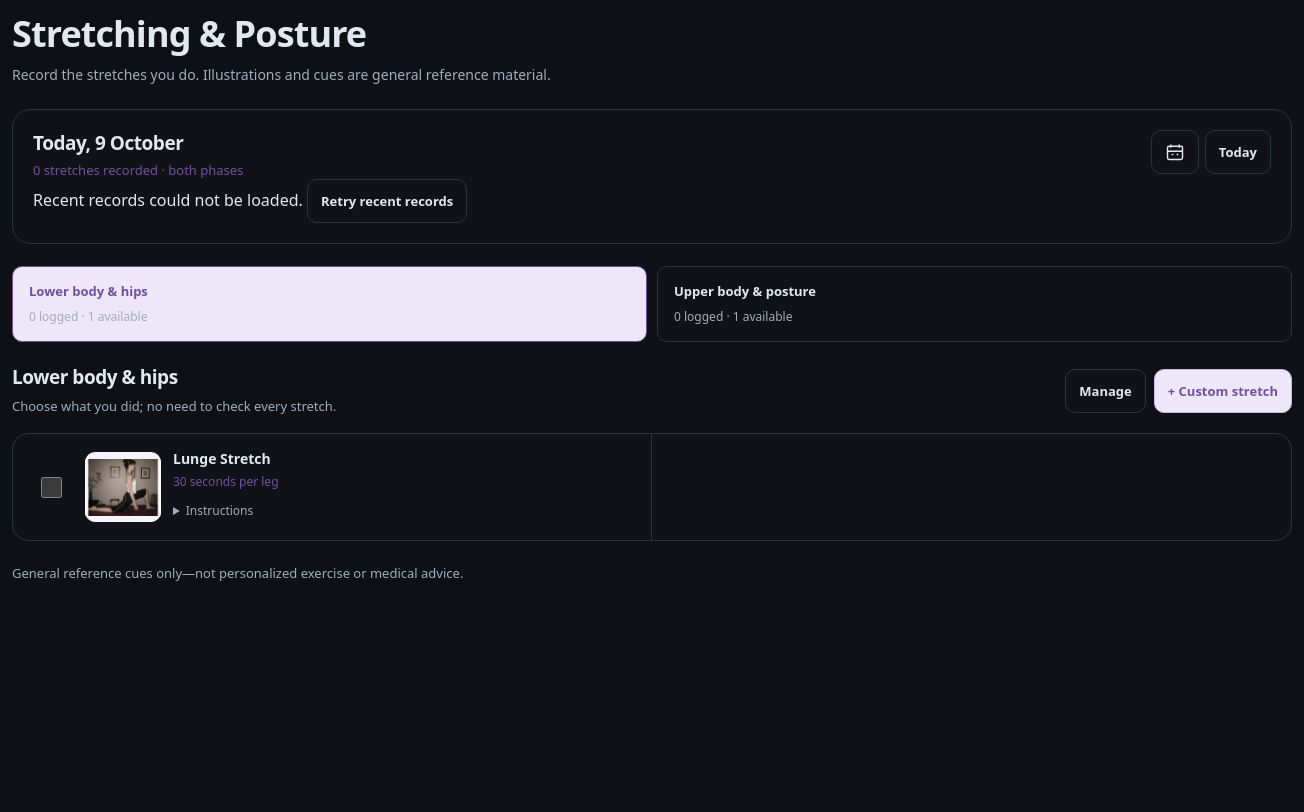
it: StretchingScreen › keeps daily logging usable if recent history fails and supports retry
Expected: the checkbox labelled "Lunge Stretch" is enabled, [40,477,62,498]
Expected: the message "Recent records could not be loaded. Retry recent records" is shown, [33,179,467,223]
Step 1. Click the button "Retry recent records" → (387, 201), box [307,179,467,223]
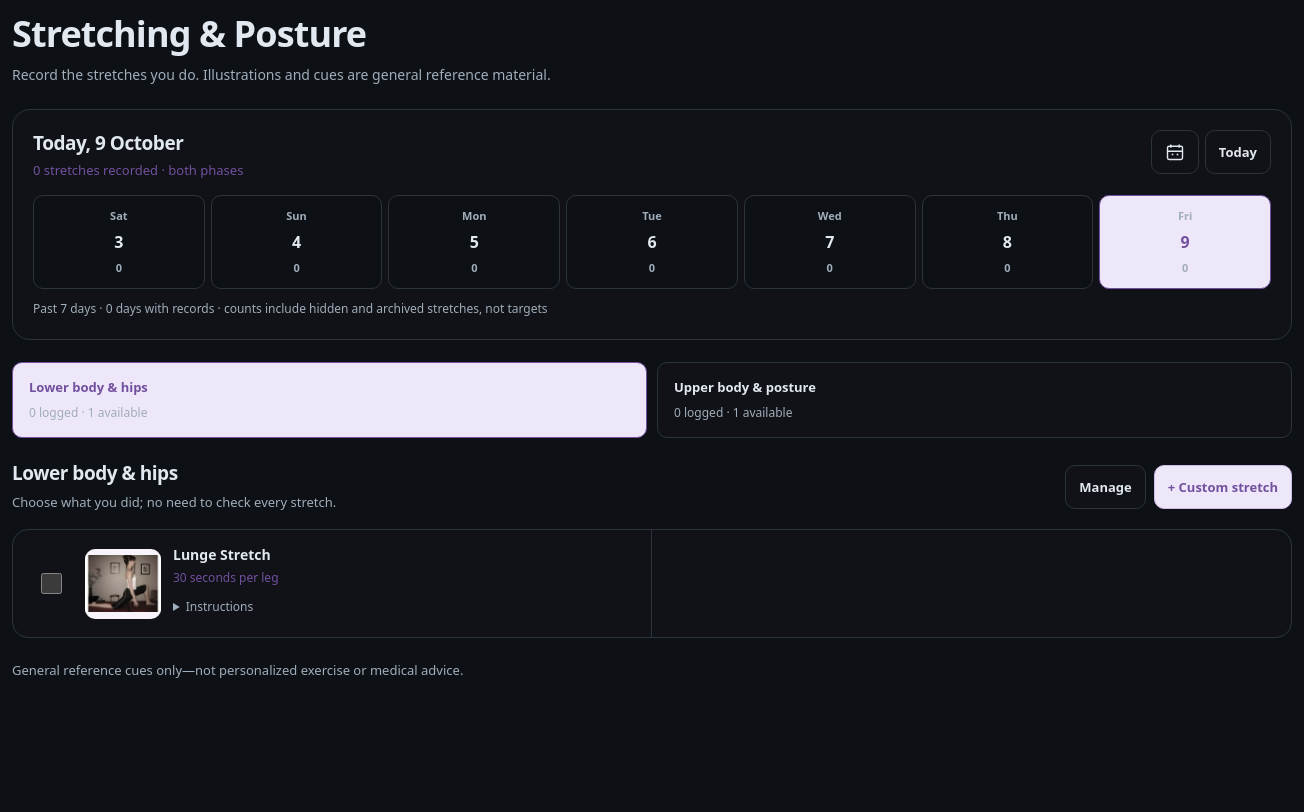
Expected: the button with aria-label "2026-10-09: 0 stretches recorded" is shown, [1099,195,1271,289]
